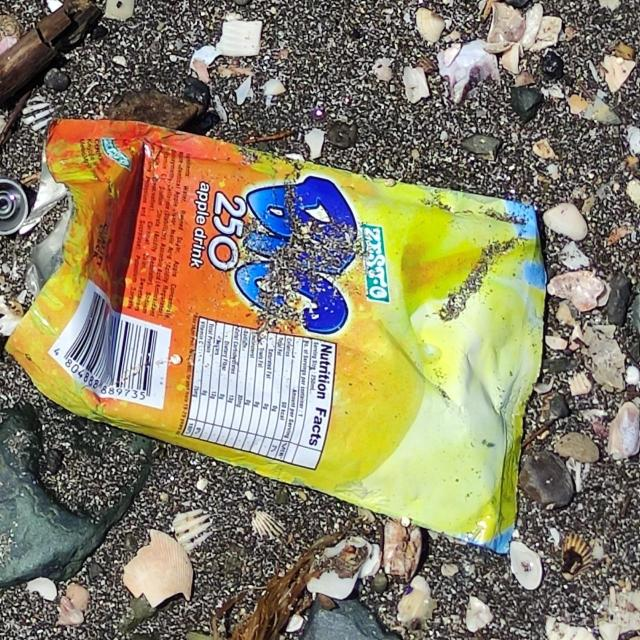plastic_waste: (1, 109, 547, 562)
